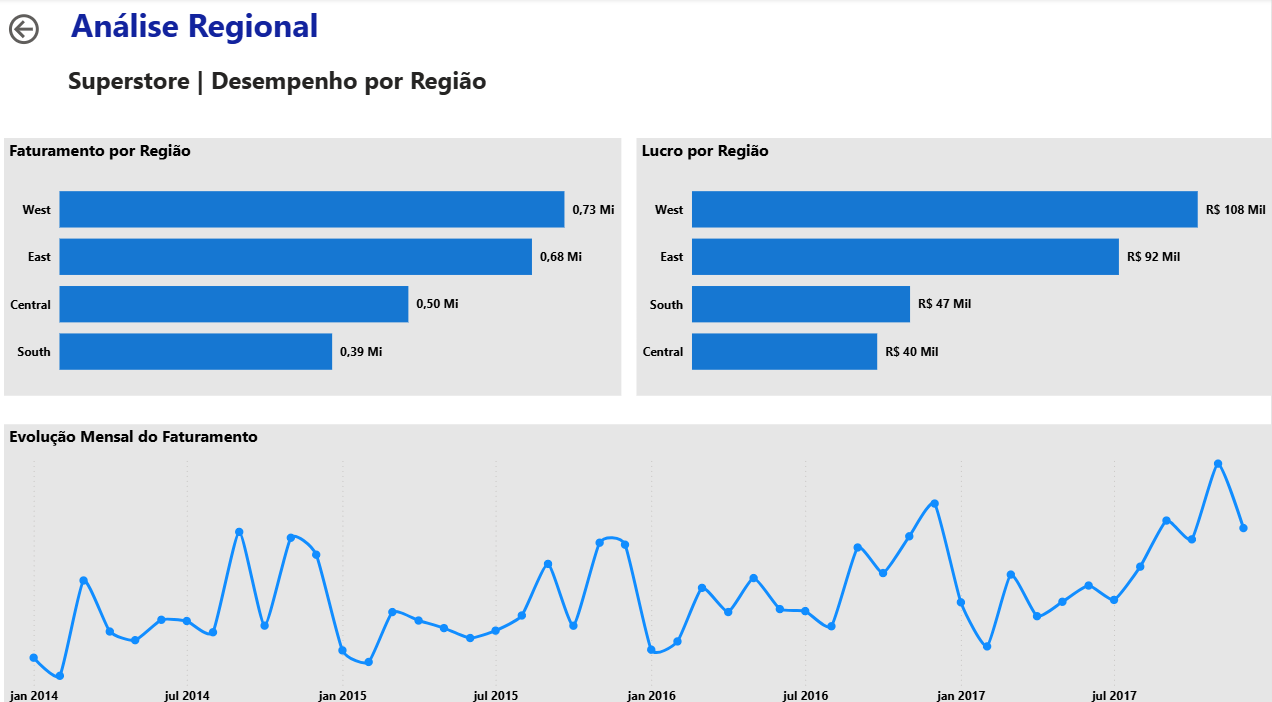

What the dashboard file says about the page in this screenshot:
{"tool":"powerbi","page":{"name":"Regioes","canvas":[1280,720],"ordinal":2},"visuals":[{"type":"shape","box":[0,450,1255.7,270.3],"z":0},{"type":"shape","box":[0,140.8,626,236.3],"z":1000},{"type":"shape","box":[641.1,140.8,626,236.3],"z":2000},{"type":"textbox","box":[56.3,0,280.3,62],"z":3000},{"type":"textbox","box":[56.3,62,446.5,70.4],"z":4000},{"type":"clusteredBarChart","title":"Faturamento por Região","fields":{"Category":["Superstore.Region"],"Y":["Superstore.Faturamento"]},"box":[5,140.8,621,258.9],"z":5000},{"type":"clusteredBarChart","title":"Lucro por Região","fields":{"Category":["Superstore.Region"],"Y":["Superstore.Lucro"]},"box":[641.1,140.8,638.6,258.9],"z":6000},{"type":"lineChart","title":"Evolução Mensal do Faturamento","fields":{"Category":["Calendario.Data Mês"],"Y":["Superstore.Faturamento"]},"box":[5,428.6,1274.6,291.6],"z":7000},{"type":"actionButton","box":[5.6,11.3,100,40],"z":8000}]}

Visuals, with their boxes in screenshot pixels (x1, y1, x2, y2), scaled from the page's 1280x720 canvas onto the 1272x702 screenshot:
shape: [0,439,1248,701]
shape: [0,137,622,368]
shape: [637,137,1259,368]
textbox: [56,0,334,60]
textbox: [56,60,500,129]
"Faturamento por Região" clusteredBarChart: [5,137,622,390]
"Lucro por Região" clusteredBarChart: [637,137,1271,390]
"Evolução Mensal do Faturamento" lineChart: [5,418,1271,701]
actionButton: [6,11,105,50]
